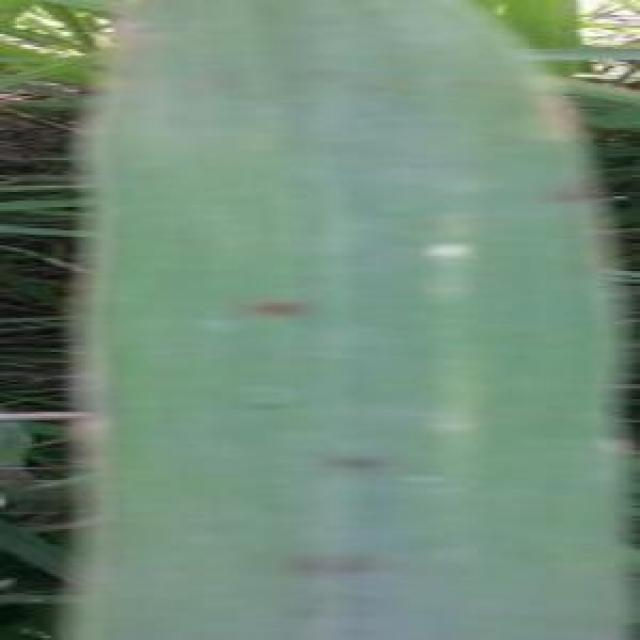brownspots: (256, 292, 307, 320), (333, 452, 380, 474)
